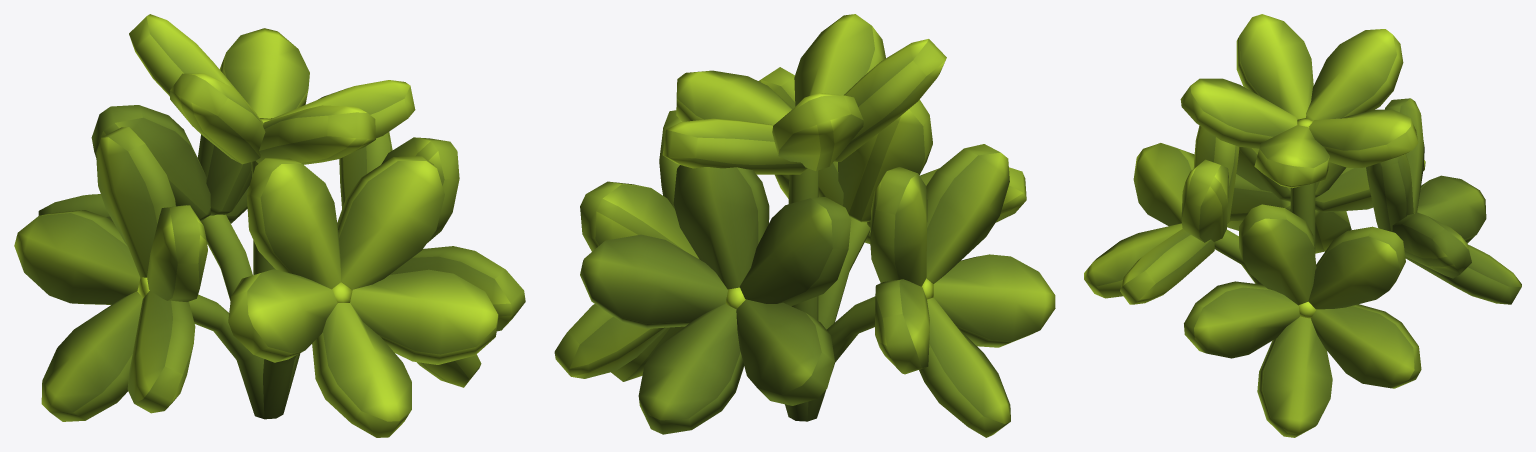
Rendered from bushes_star_leaves_small_LOD_group.fbx.
The picture shows the model from 3 angles, left to right: view 1: azimuth 30°, elevation 25°; view 2: azimuth 150°, elevation 25°; view 3: azimuth 270°, elevation 25°; orthographic projection. The views are drawn at different scales.
Parts seen in each view (by area): view 1: bushes_star_leaves_small_LOD0; view 2: bushes_star_leaves_small_LOD0; view 3: bushes_star_leaves_small_LOD0.
Boxes of the visible parts, x1,y1,x2,y2 form: bushes_star_leaves_small_LOD0: (14, 14, 525, 437); bushes_star_leaves_small_LOD0: (554, 14, 1055, 437); bushes_star_leaves_small_LOD0: (1084, 14, 1521, 437).
Size of what is drawn, in the model's own units: 154 by 139 by 176.
1 material, 1 textured.
